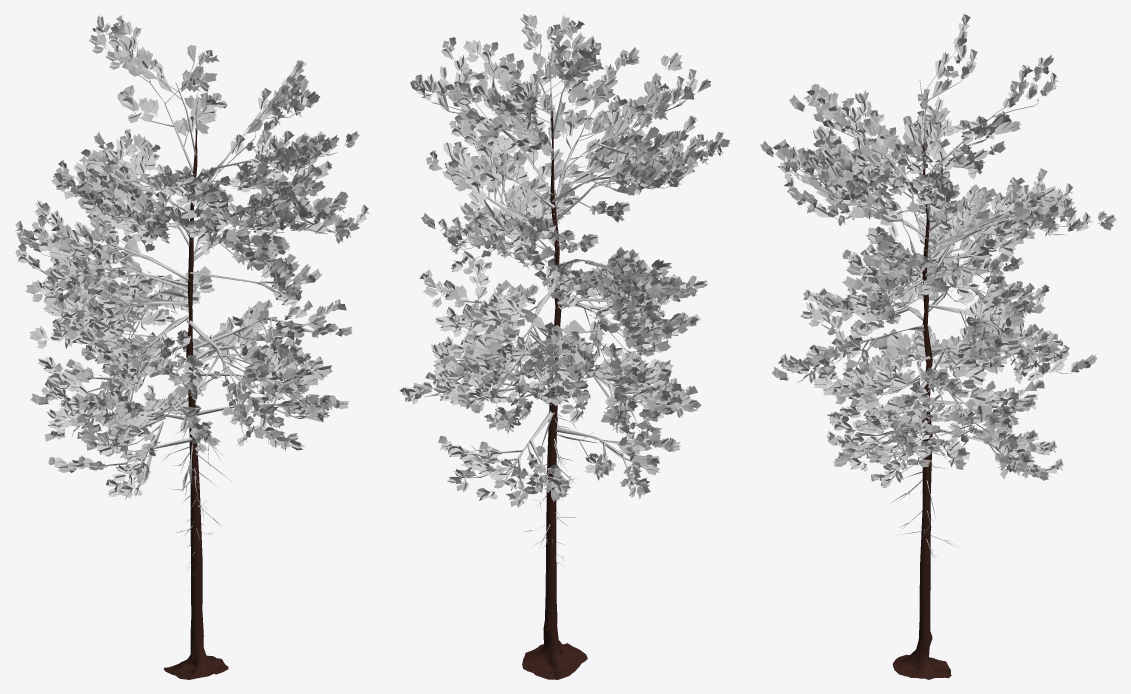
Rendered from pine_b_lod1.obj.
3 renders of one model, left to right at view 1: azimuth 30°, elevation 25°; view 2: azimuth 150°, elevation 25°; view 3: azimuth 270°, elevation 25°, orthographic. The views are drawn at different scales.
Parts seen in each view (by area): view 1: pine_b_lod1; view 2: pine_b_lod1; view 3: pine_b_lod1.
Part boxes in pixels (<box>): pine_b_lod1: <box>15,15,369,679</box>; pine_b_lod1: <box>399,14,730,679</box>; pine_b_lod1: <box>760,14,1116,679</box>.
Size of the model in its own units: 284 by 586 by 300.
